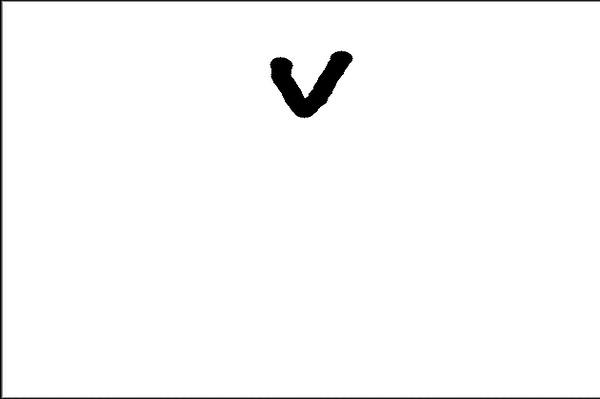V: (266, 47, 358, 124)
